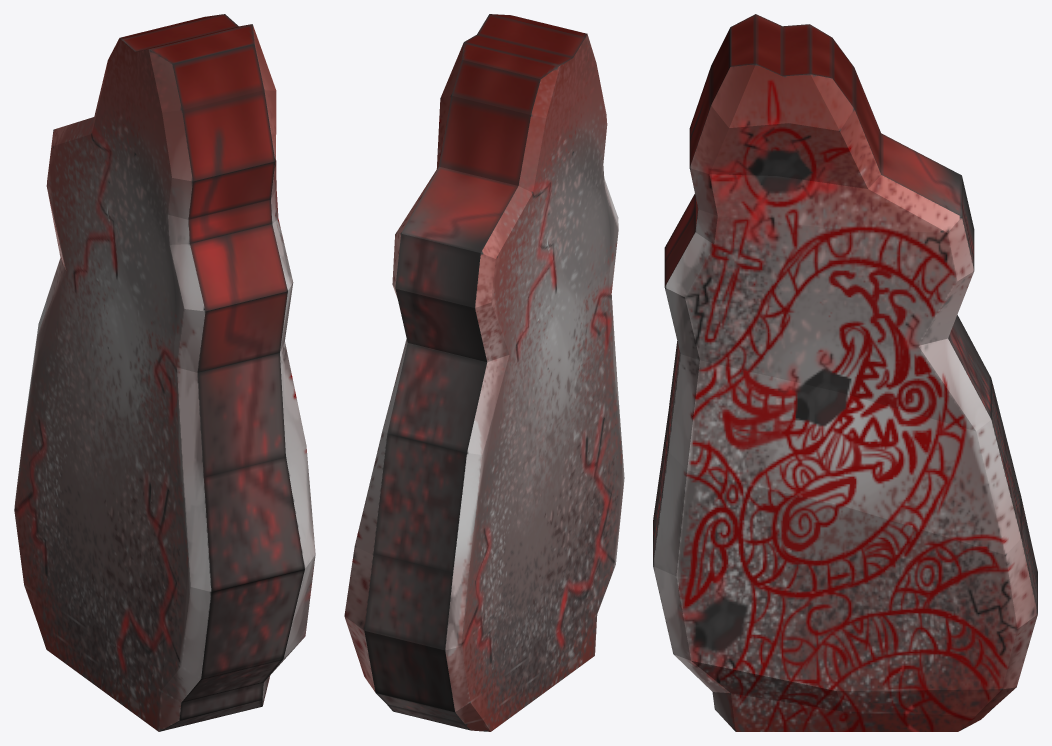
The model's file is dragonStone.fbx.
3 renders of one model, left to right at view 1: azimuth 30°, elevation 25°; view 2: azimuth 150°, elevation 25°; view 3: azimuth 270°, elevation 25°, orthographic. The views are drawn at different scales.
Visible parts, largest first — view 1: pCube1; view 2: pCube1; view 3: pCube1.
Part boxes in pixels (x1,y1,x2,y2): pCube1: (14, 14, 315, 731); pCube1: (344, 14, 624, 731); pCube1: (653, 14, 1037, 731).
Bounding box in the file's own units: 1.68 × 8.43 × 4.41.
Materials: 1 (1 with a texture image).
